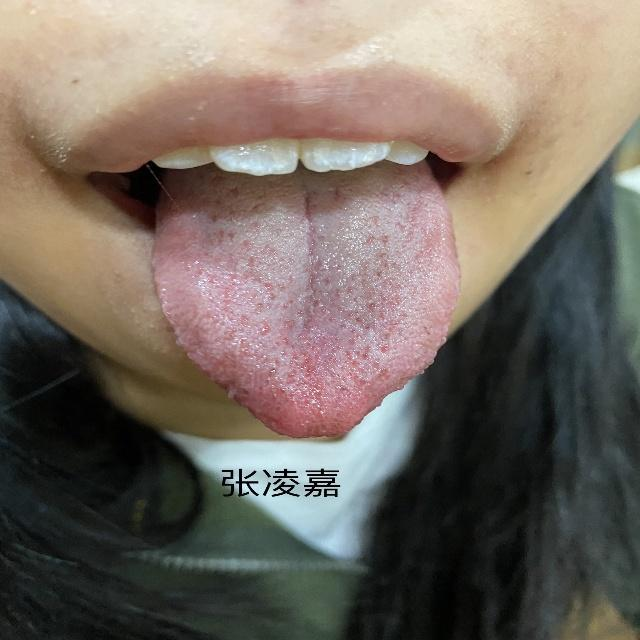baitaishe: (152, 179, 463, 440)
